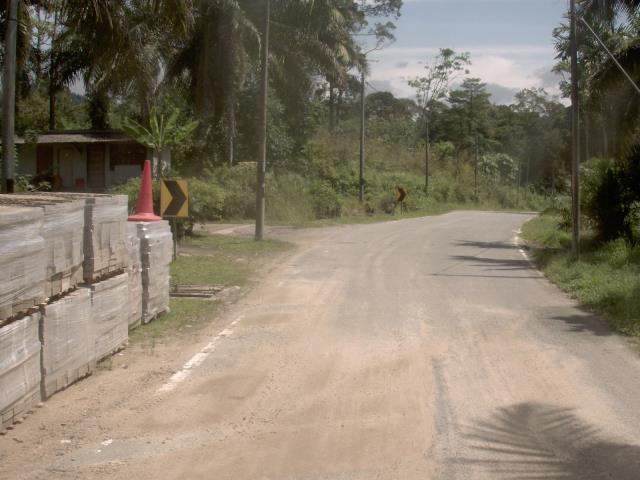traffic_sign: (151, 170, 199, 228)
